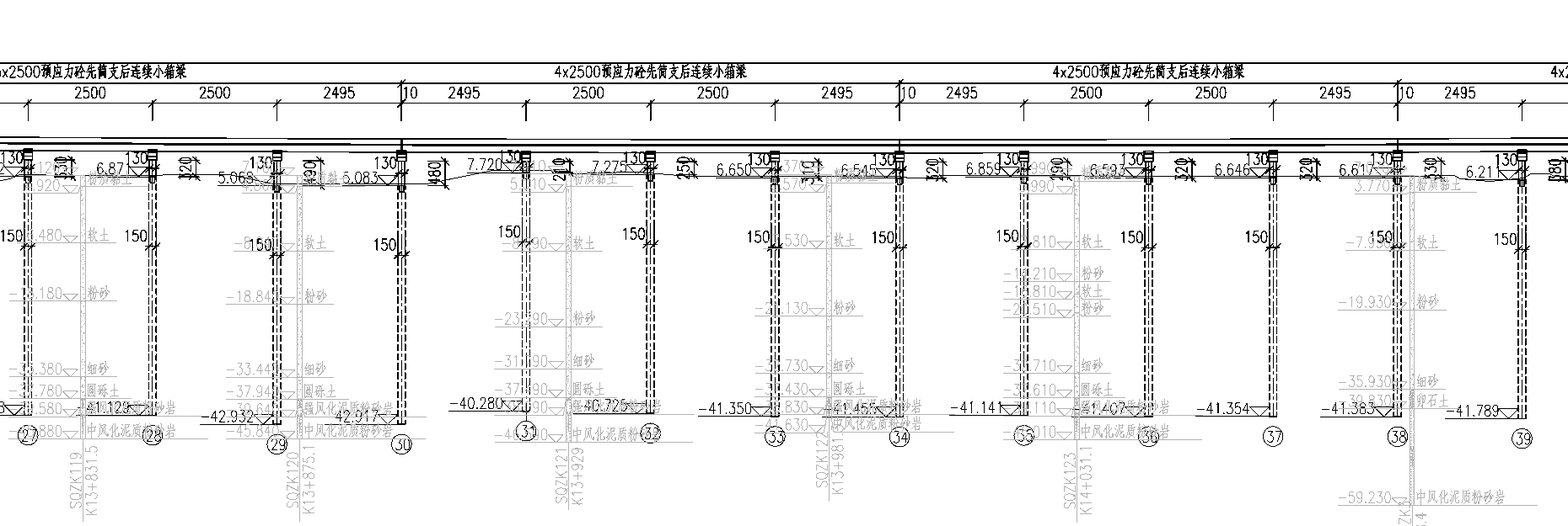B: (893, 55, 1414, 97), (400, 56, 923, 96)
C: (943, 144, 1047, 452), (325, 141, 423, 462), (696, 145, 797, 452), (1195, 142, 1294, 453), (1446, 142, 1543, 456), (445, 148, 547, 446), (824, 143, 921, 453), (201, 147, 297, 460), (78, 142, 174, 451), (575, 145, 670, 448), (1077, 143, 1170, 452), (1332, 144, 1417, 453), (0, 141, 51, 454)
